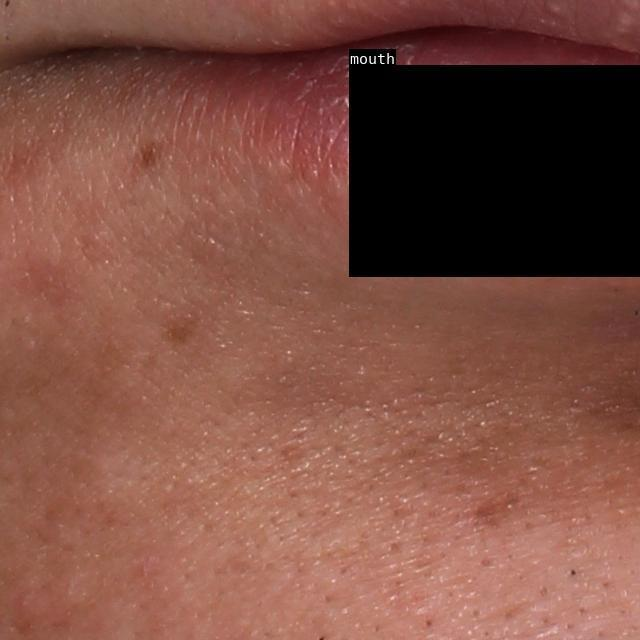hypertrophic_scar: (71, 442, 148, 517)
nevus: (134, 134, 167, 172)
